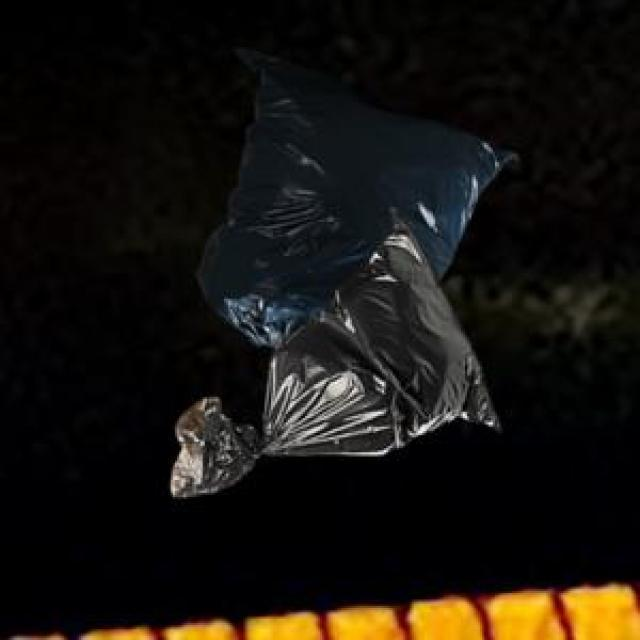waste: (171, 64, 507, 498)
